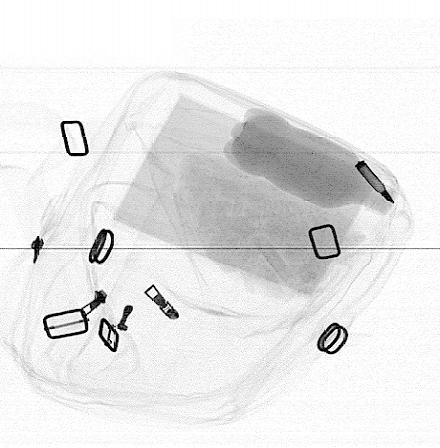Bullet: (354, 159, 396, 204)
